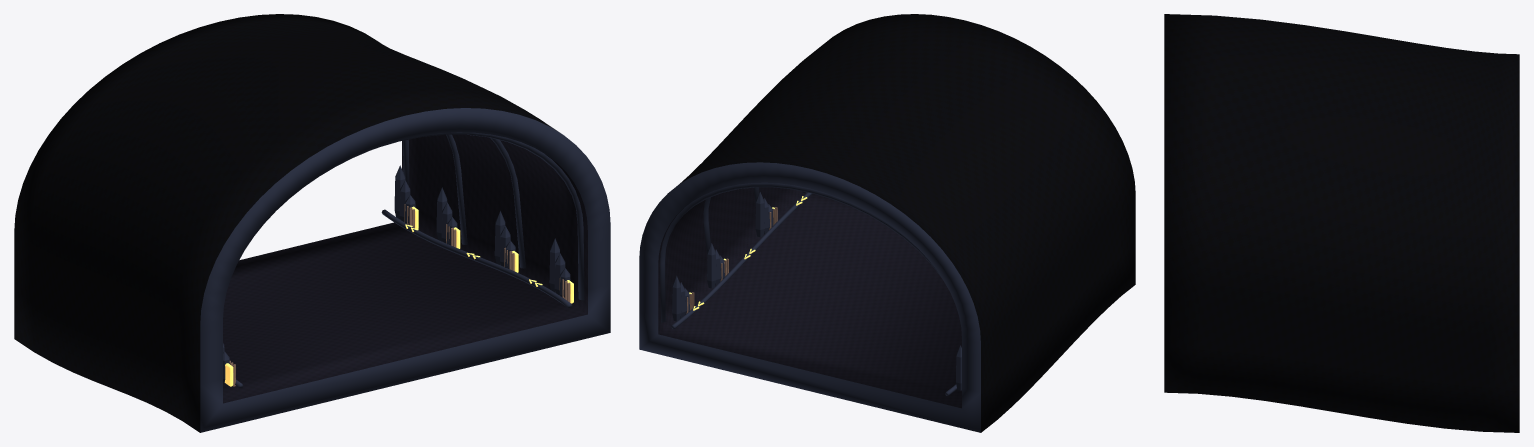
File: grade_down_lod1.glb
The picture shows the model from 3 angles, left to right: view 1: azimuth 30°, elevation 25°; view 2: azimuth 150°, elevation 25°; view 3: azimuth 270°, elevation 25°; orthographic projection. The views are drawn at different scales.
Visible parts, largest first — view 1: TunnelGeometry.001; view 2: TunnelGeometry.001; view 3: TunnelGeometry.001.
Boxes of the visible parts, box(x1,y1,x2,y2) form: TunnelGeometry.001: box(14, 14, 610, 432); TunnelGeometry.001: box(639, 14, 1135, 432); TunnelGeometry.001: box(1164, 14, 1519, 432).
Bounding box in the file's own units: 15.3 × 11.02 × 12.
Materials: 5 (2 with a texture image).
